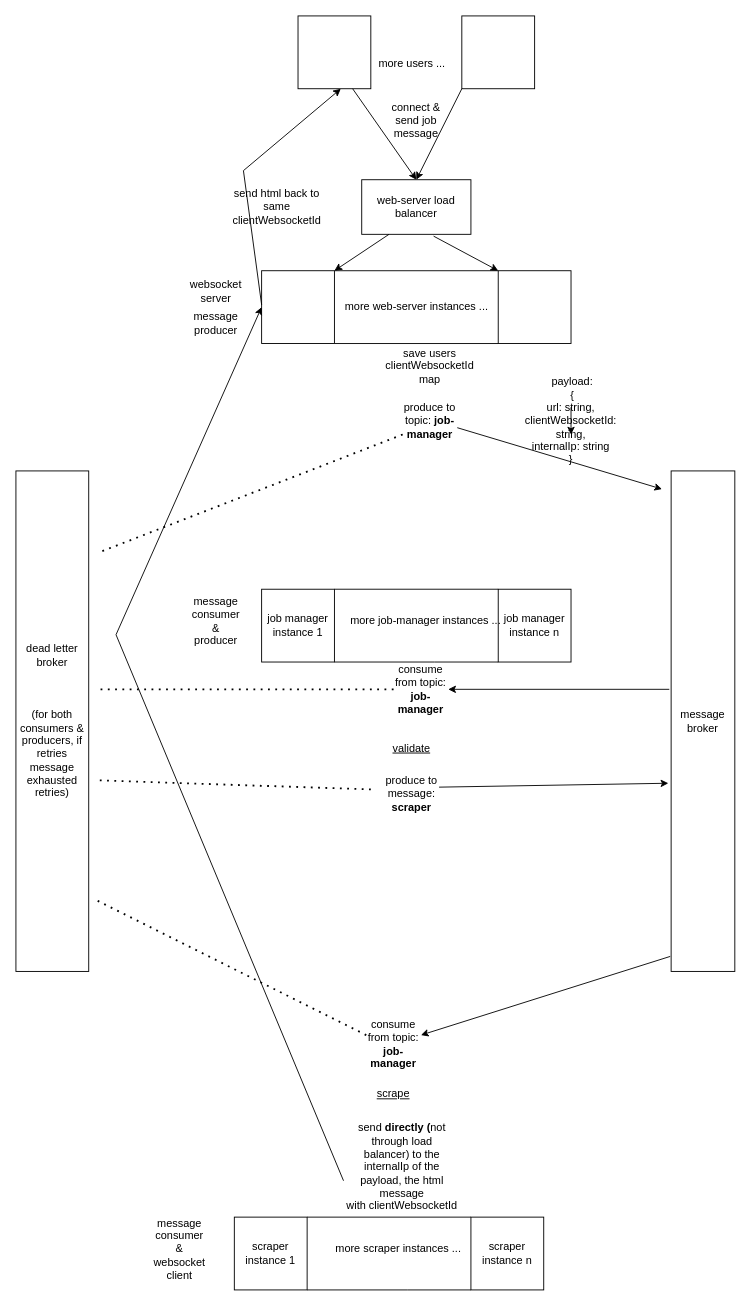
This 751x1307 diagram has some shape labels left out. Each missing label, with the centre of its shape:
user 1: the point at 334,52
user n: the point at 498,52
web-server instance 1: the point at 297,307
web-server instance n: the point at 534,307
